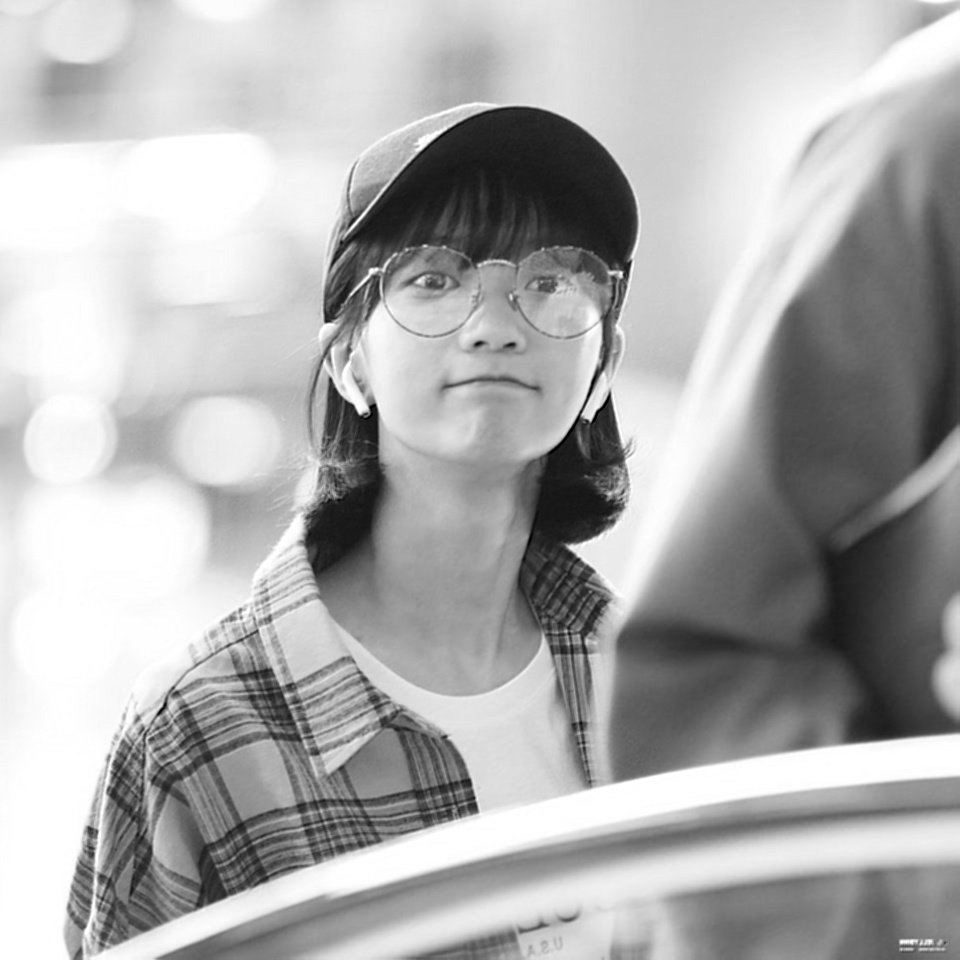earphone: (319, 323, 375, 418), (578, 324, 627, 425)
